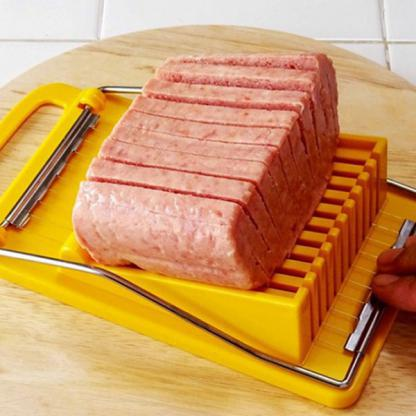spam: (86, 20, 334, 278)
